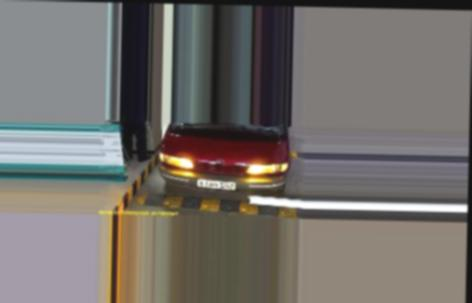License_Plate: (197, 178, 238, 191)
